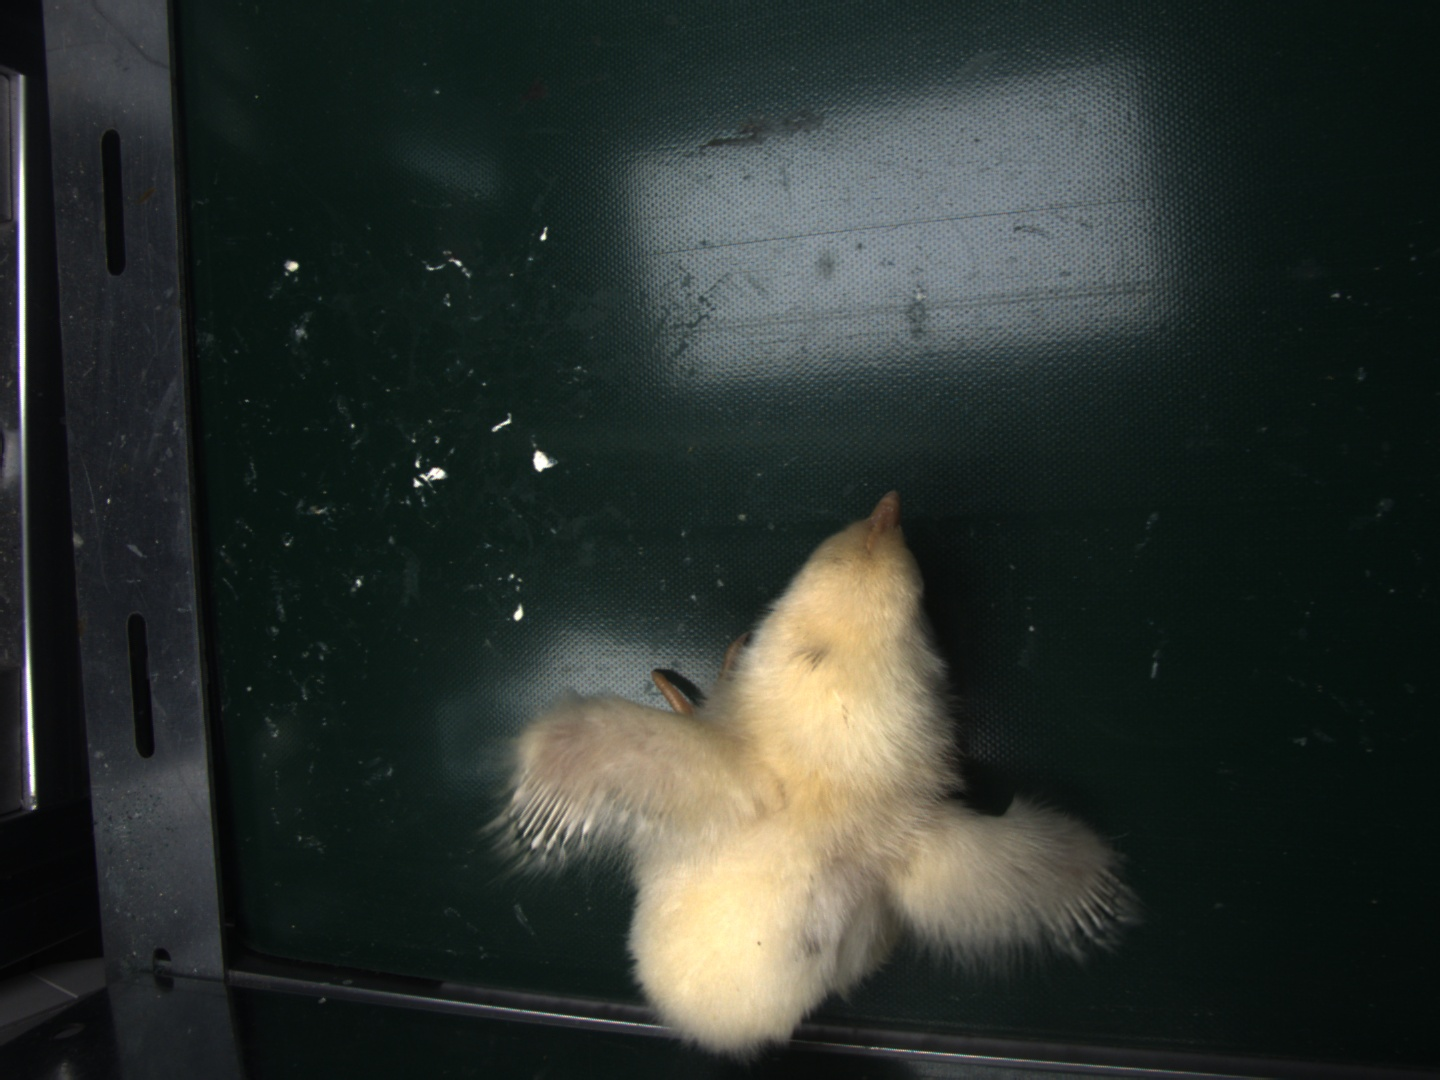male: (500, 773, 595, 857), (1047, 868, 1123, 940)
